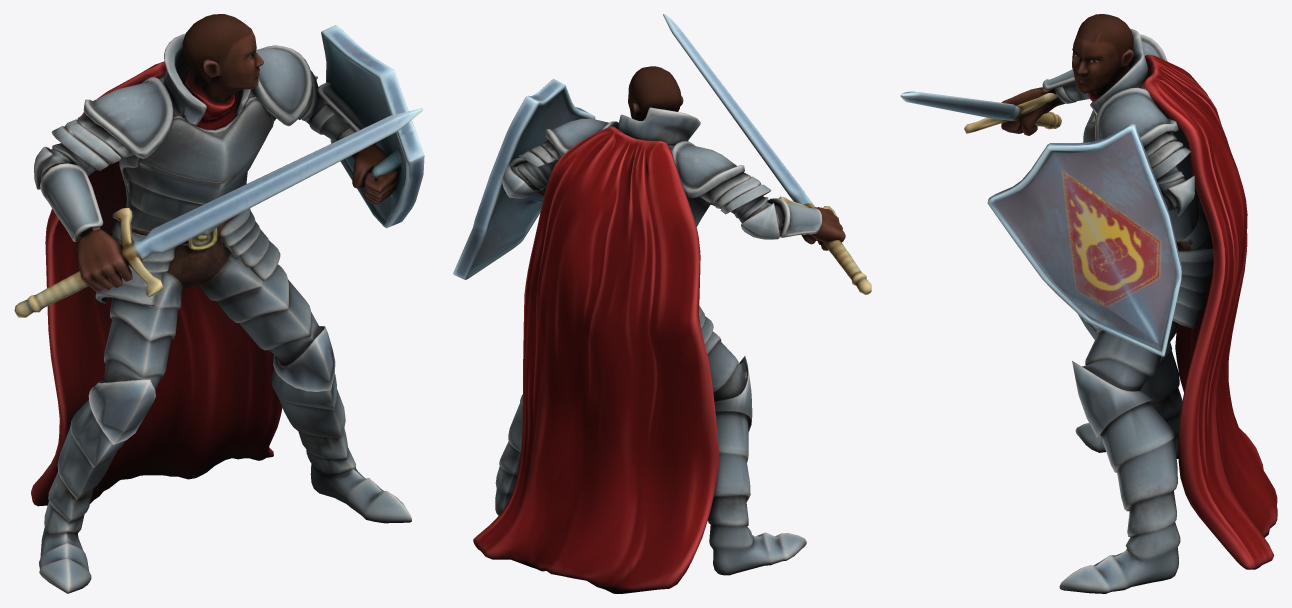
File: MZ4250 - Ulder Ravengard.glb
3 views of the same model, side by side, from view 1: azimuth 30°, elevation 25°; view 2: azimuth 150°, elevation 25°; view 3: azimuth 270°, elevation 25° (orthographic). The views are drawn at different scales.
Parts seen in each view (by area): view 1: body_low.001, sword_low.001, shield_low.001; view 2: body_low.001, shield_low.001, sword_low.001; view 3: body_low.001, shield_low.001, sword_low.001.
Boxes of the visible parts, box(x1,y1,x2,y2) form: body_low.001: box(31, 14, 411, 593); sword_low.001: box(14, 108, 422, 317); shield_low.001: box(321, 25, 424, 228); body_low.001: box(473, 66, 845, 593); shield_low.001: box(453, 79, 595, 279); sword_low.001: box(663, 14, 871, 294); body_low.001: box(1001, 14, 1277, 593); shield_low.001: box(987, 123, 1181, 356); sword_low.001: box(900, 91, 1061, 133).
Bounding box in the file's own units: 4.64 × 5.55 × 3.76.
Materials: 1 (1 with a texture image).
